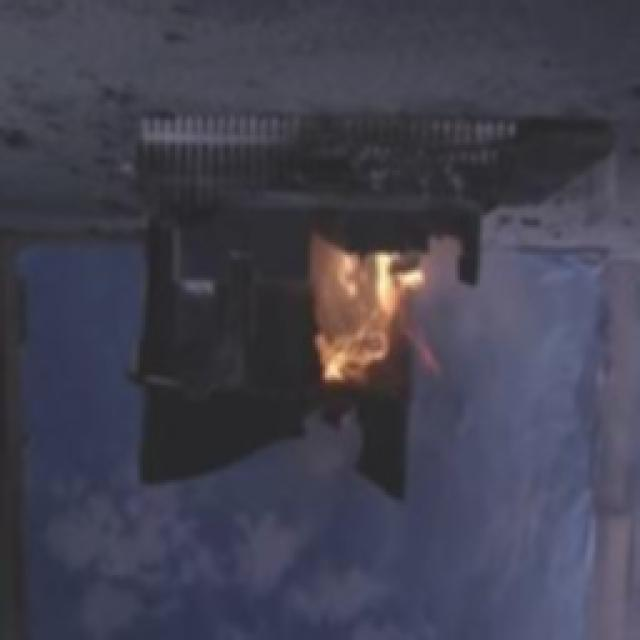fire: (306, 225, 449, 423)
